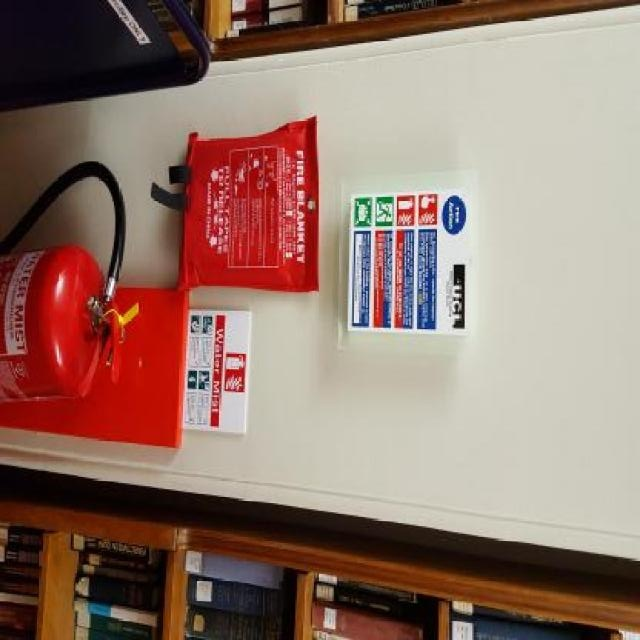fire extinguisher: (0, 162, 128, 403)
